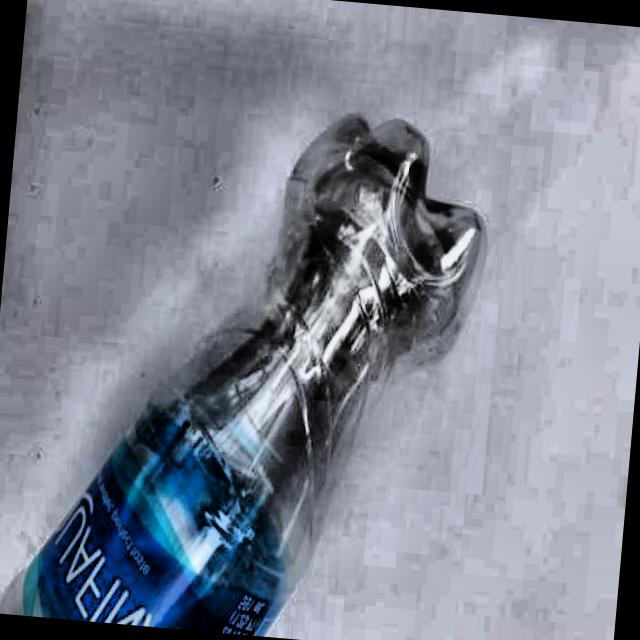plastic bottle: (0, 117, 480, 635)
